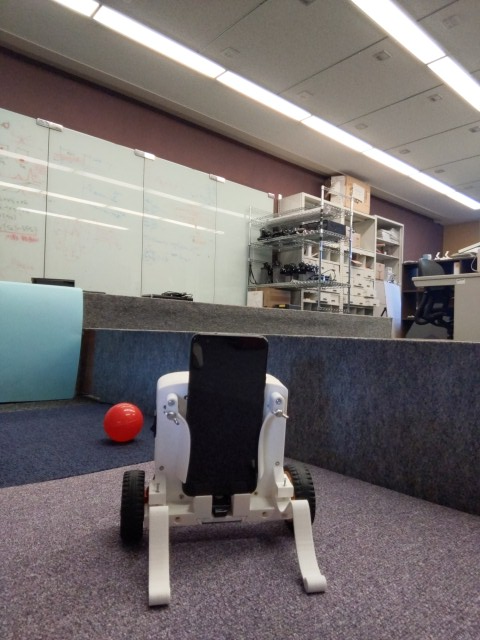f: (118, 322, 333, 610)
